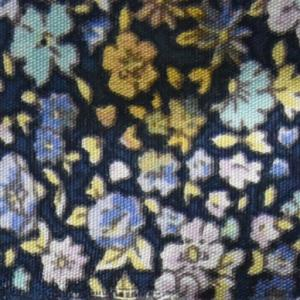Damage: (73, 287, 177, 300)
Oil Stain: (78, 1, 245, 142)
